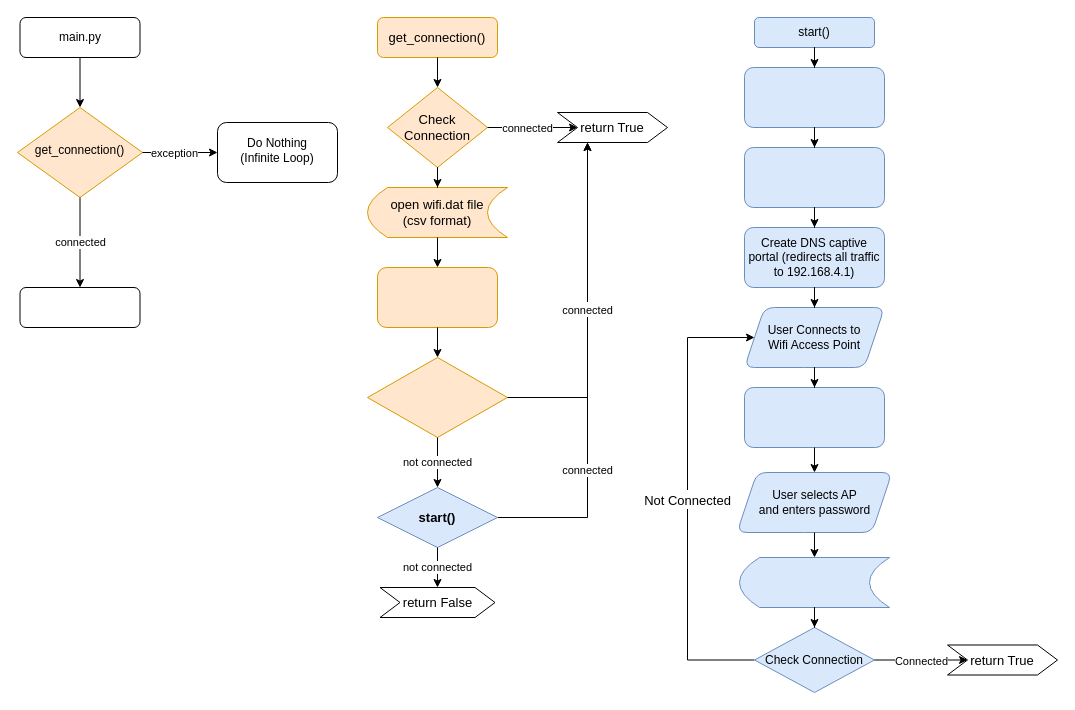
This 1075x710 diagram has some shape labels left out. The shapes that lost their labels are listed below. From the top down, each one's centre as x and y in pixels, then its label:
the point at 814,97: Create Wifi Access Point (default "WifiManager")
the point at 814,177: Web Server listening at 192.168.4.1
the point at 79,307: Run Main Code
the point at 437,297: Scan WiFi Access Points
the point at 437,397: if AP in wifi.dat try to connect
the point at 814,417: Captive Portal opens presenting all visible Access Points
the point at 814,582: Save password to wifi.dat
